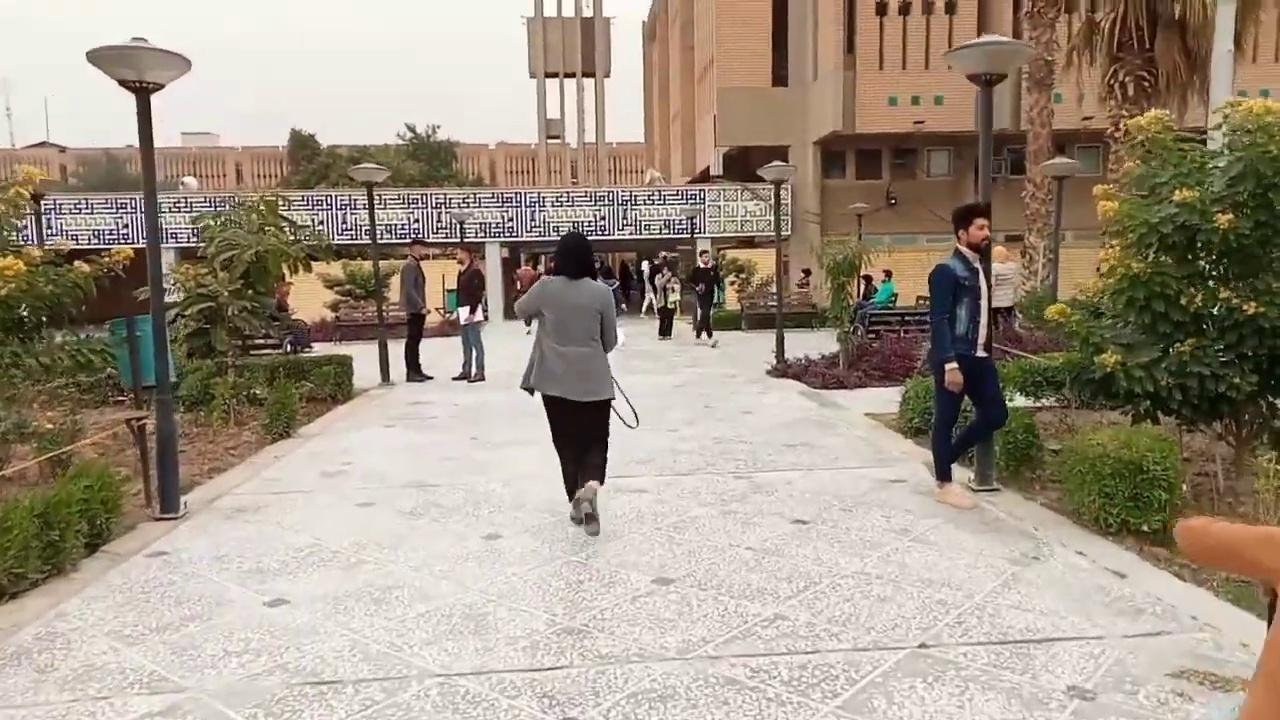person: (513, 230, 618, 536), (926, 201, 1009, 509), (398, 238, 434, 382), (450, 243, 487, 382), (272, 279, 313, 353), (688, 249, 721, 340), (851, 268, 895, 333), (989, 244, 1017, 333), (795, 267, 811, 289)
tree: (1041, 93, 1279, 519), (1009, 0, 1216, 314), (274, 120, 486, 382), (0, 161, 135, 471), (163, 189, 338, 428), (1010, 0, 1065, 315), (274, 120, 485, 191), (809, 231, 884, 369), (315, 257, 394, 320), (390, 121, 461, 188), (276, 125, 324, 188), (720, 255, 759, 313), (713, 251, 744, 308)
